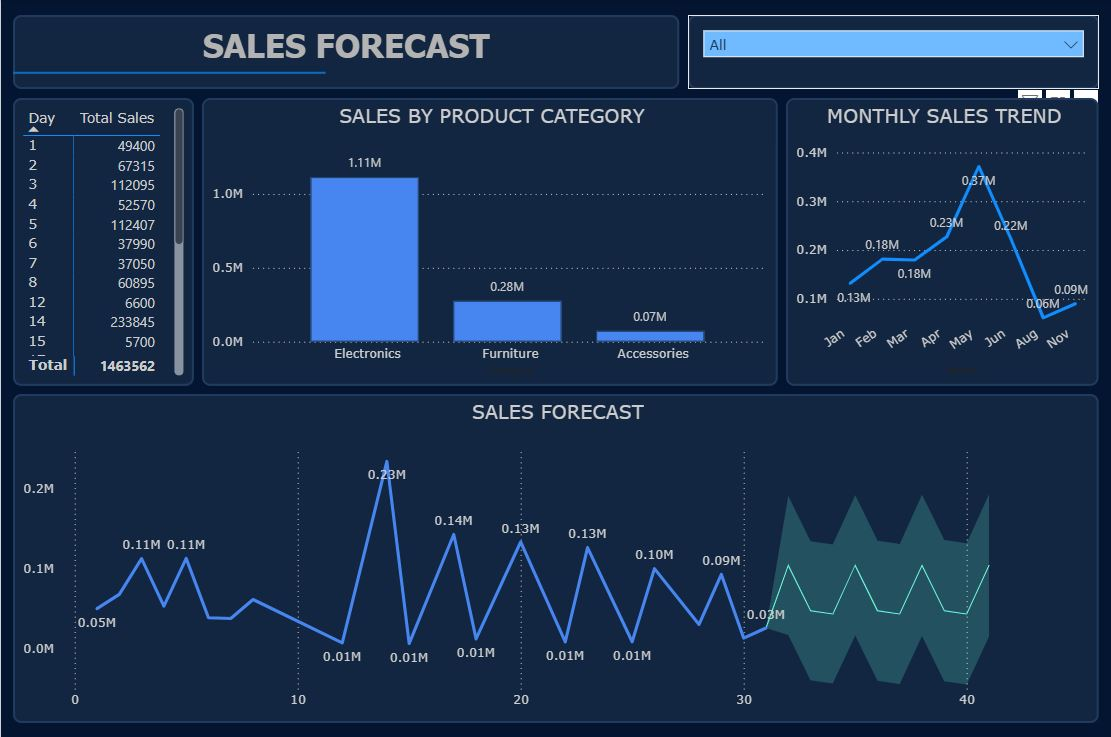

The page's visual inventory and layout, read from the dashboard file:
{"tool":"powerbi","page":{"name":"SALES FORECAST","canvas":[1280,720],"ordinal":1},"visuals":[{"type":"lineChart","title":"SALES FORECAST","fields":{"Y":["Sum(Sales_Data.Sales_Amount)"],"Category":["Date_Table.Date.Variation.Date Hierarchy.Day"]},"box":[112,384,1056,320],"z":0},{"type":"slicer","fields":{"Values":["Sales_Data.Region"]},"box":[768,16,400,72],"z":1000},{"type":"textbox","box":[112,16,648,72],"z":2000},{"type":"shape","box":[112,8,304,128],"z":3000},{"type":"pivotTable","fields":{"Values":["Sales_Data.Total Sales"],"Rows":["Date_Table.Date.Variation.Date Hierarchy.Day"]},"box":[112,96,176,280],"z":4000},{"type":"clusteredColumnChart","title":"SALES BY PRODUCT CATEGORY","fields":{"Y":["Sum(Sales_Data.Sales_Amount)"],"Category":["Sales_Data.Category"]},"box":[296,96,560,280],"z":5000},{"type":"lineChart","title":"MONTHLY SALES TREND","fields":{"Category":["Sales_Data.Month"],"Y":["Sum(Sales_Data.Sales_Amount)"]},"box":[864,96,304,280],"z":6000}]}

Visuals, with their boxes on the page's 1280x720 design canvas (x1, y1, x2, y2). These are canvas units, not pixel positions in the 1111x737 screenshot, which may show the page scaled, cropped or inside an application window:
"SALES FORECAST" lineChart: box(112, 384, 1168, 704)
slicer - Sales_Data.Region: box(768, 16, 1168, 88)
textbox: box(112, 16, 760, 88)
shape: box(112, 8, 416, 136)
pivotTable - Sales_Data.Total Sales x Date_Table.Date.Variation.Date Hierarchy.Day: box(112, 96, 288, 376)
"SALES BY PRODUCT CATEGORY" clusteredColumnChart: box(296, 96, 856, 376)
"MONTHLY SALES TREND" lineChart: box(864, 96, 1168, 376)
